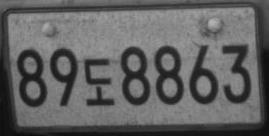3: (222, 43, 252, 104)
6: (187, 44, 219, 104)
8: (118, 45, 151, 106), (153, 44, 185, 106), (16, 48, 48, 107)
9: (49, 47, 78, 107)
도: (83, 57, 115, 107)
